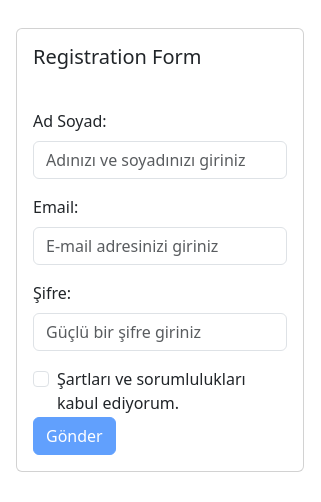
Scenario: Register Page › Error messages › email inputs throw errors for sena@wit.
Type "sena@wit." into the field with test id "email-input" at [160, 246], box [33,227,287,265]
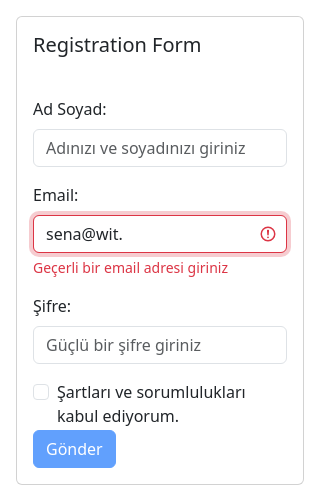
Now the text "Geçerli bir email adresi giriniz" is shown, box [33,258,228,276]
